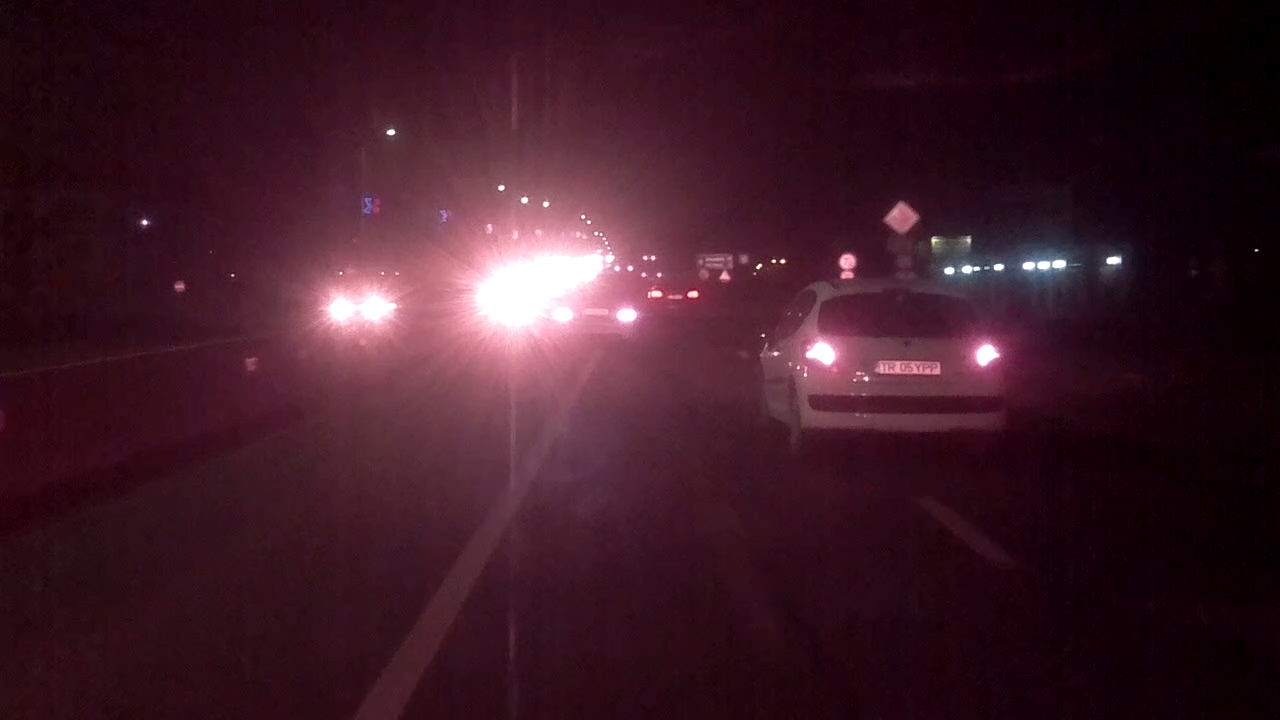license-plate: (869, 357, 945, 379)
